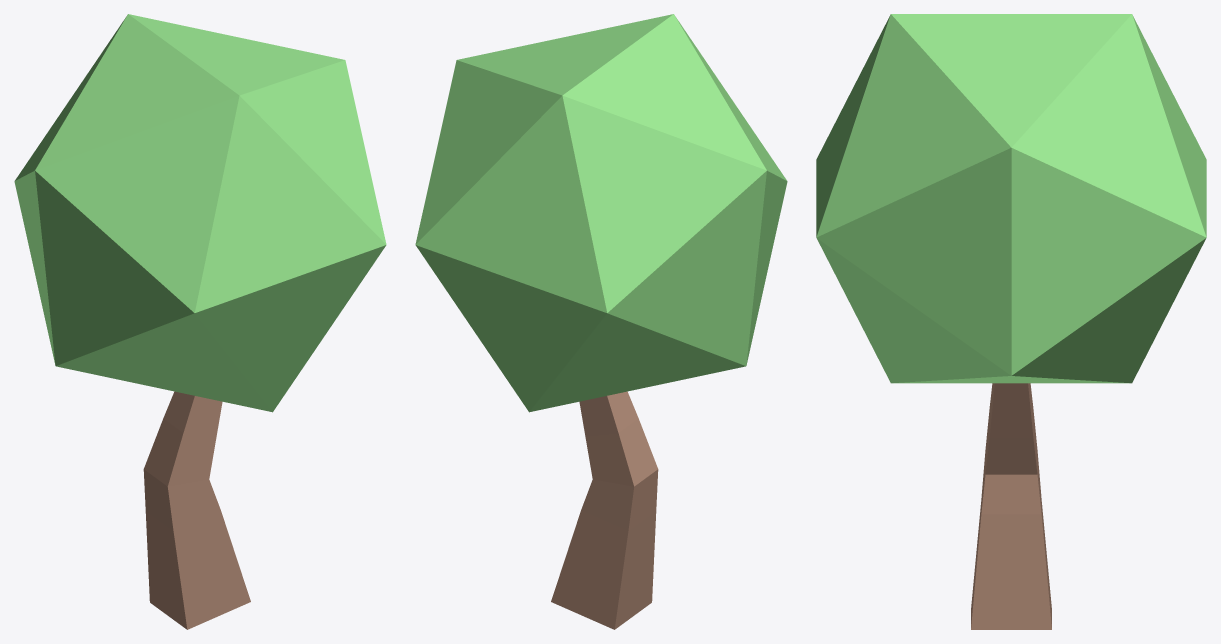
File: tree_round.fbx
The picture shows the model from 3 angles, left to right: view 1: azimuth 30°, elevation 25°; view 2: azimuth 150°, elevation 25°; view 3: azimuth 270°, elevation 25°; orthographic projection. The views are drawn at different scales.
Parts seen in each view (by area): view 1: Icosphere.003, Cube.001; view 2: Icosphere.003, Cube.001; view 3: Icosphere.003, Cube.001.
Boxes of the visible parts, x1,y1,x2,y2 form: Icosphere.003: (14,14,386,412); Cube.001: (143,391,250,629); Icosphere.003: (415,14,787,412); Cube.001: (551,391,658,629); Icosphere.003: (816,14,1206,383); Cube.001: (971,383,1051,629).
Bounding box in the file's own units: 180 × 290 × 170.
